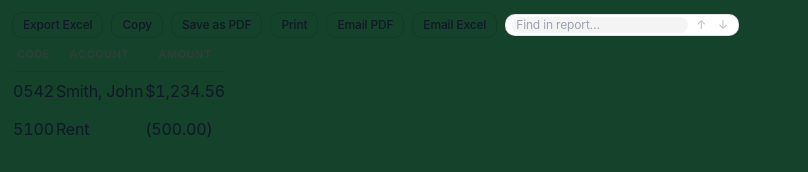
Test: Excel-style report search › finds and highlights report cells, with keyboard navigation status
Type "rent" into the search field labelled "Find in report…" at (600, 25), box [512,17,688,33]
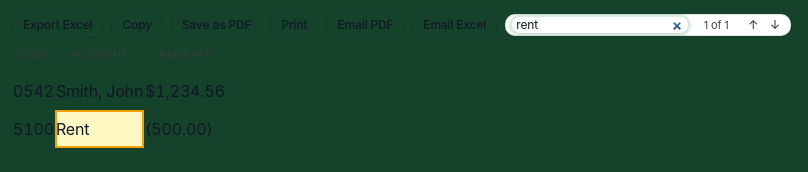
Now the text "1 of 1" is shown, box [704,18,729,32]
Press Escape
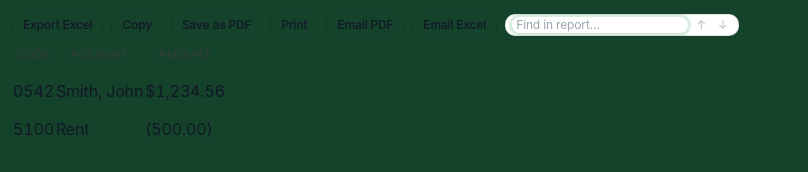
Now the text "1 of 1" is gone
